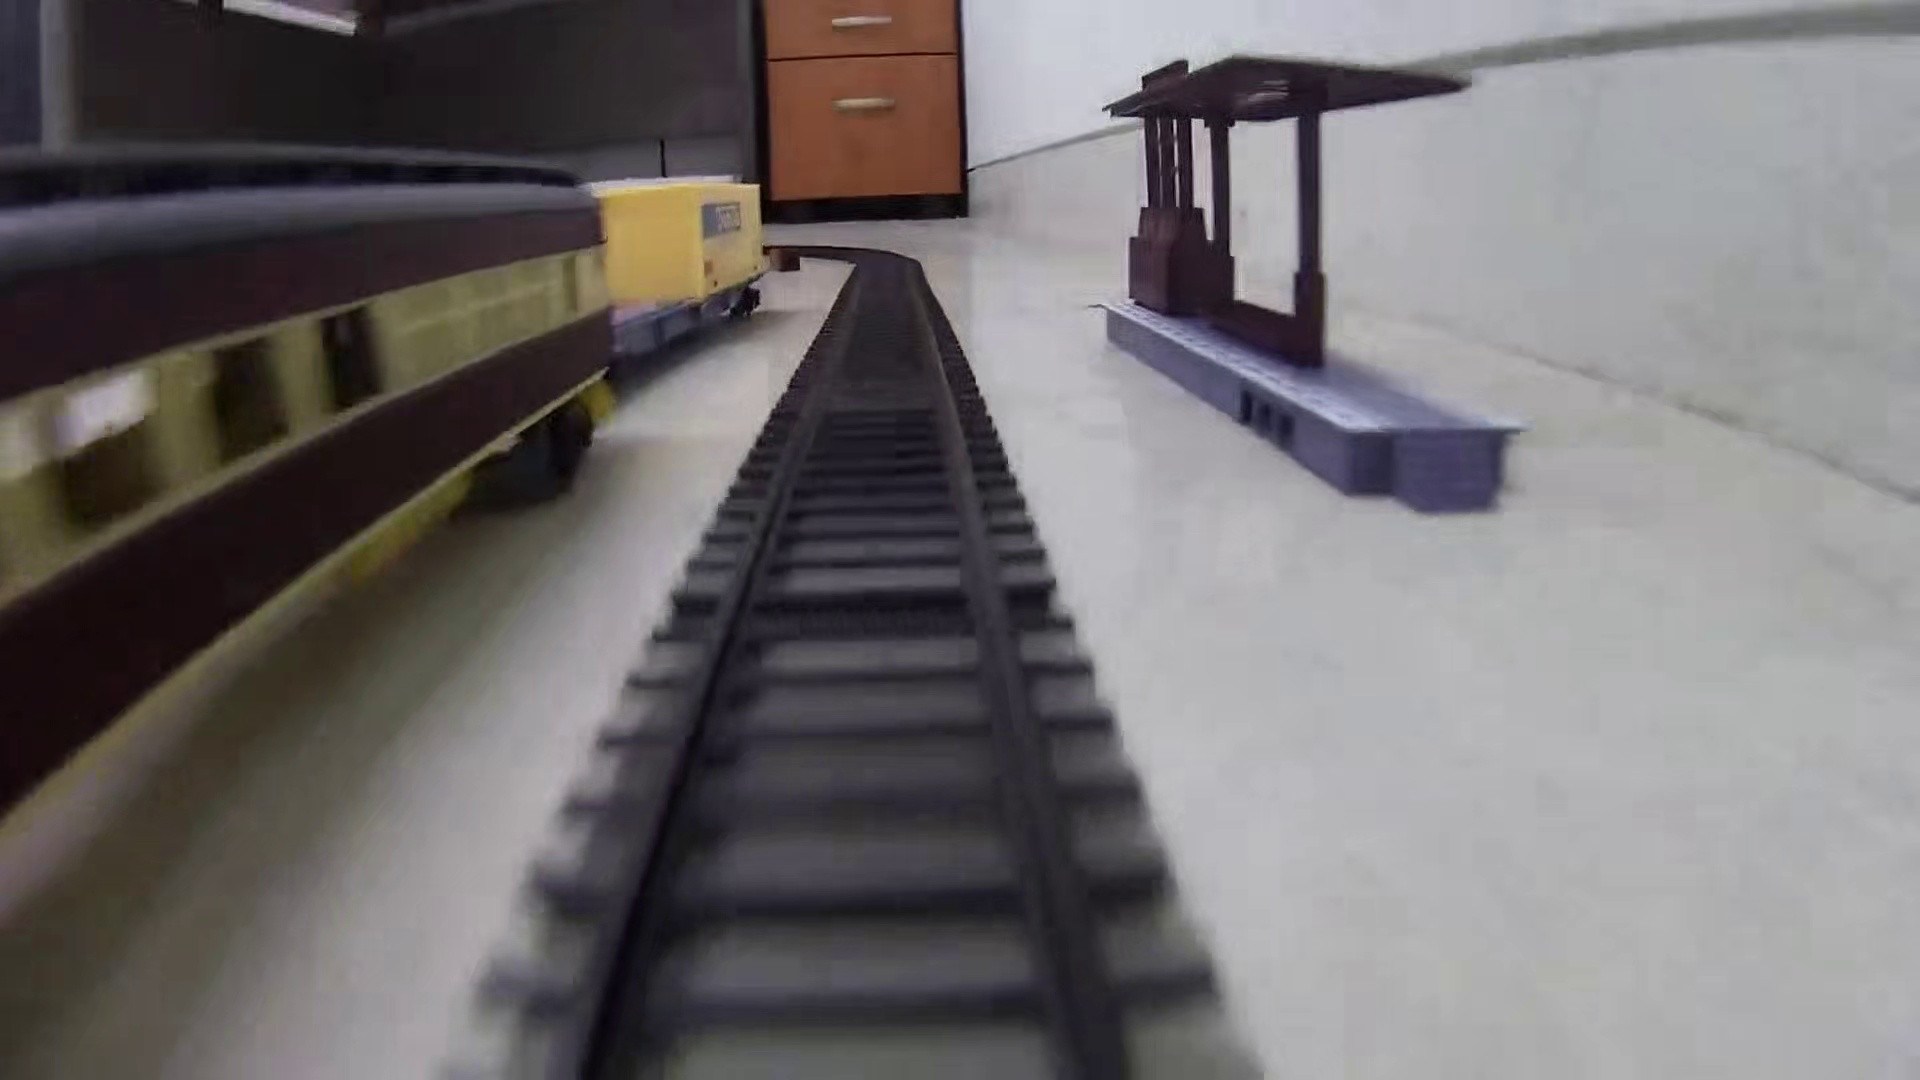box: (764, 245, 805, 276)
